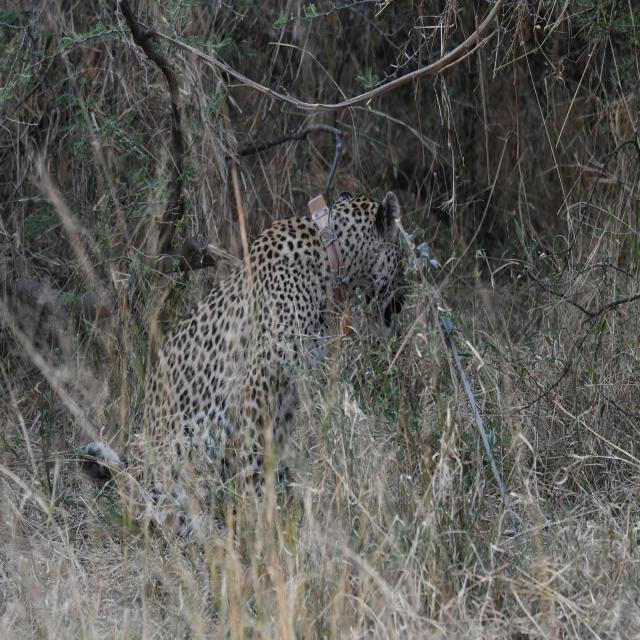Leopard: (108, 187, 404, 561)
